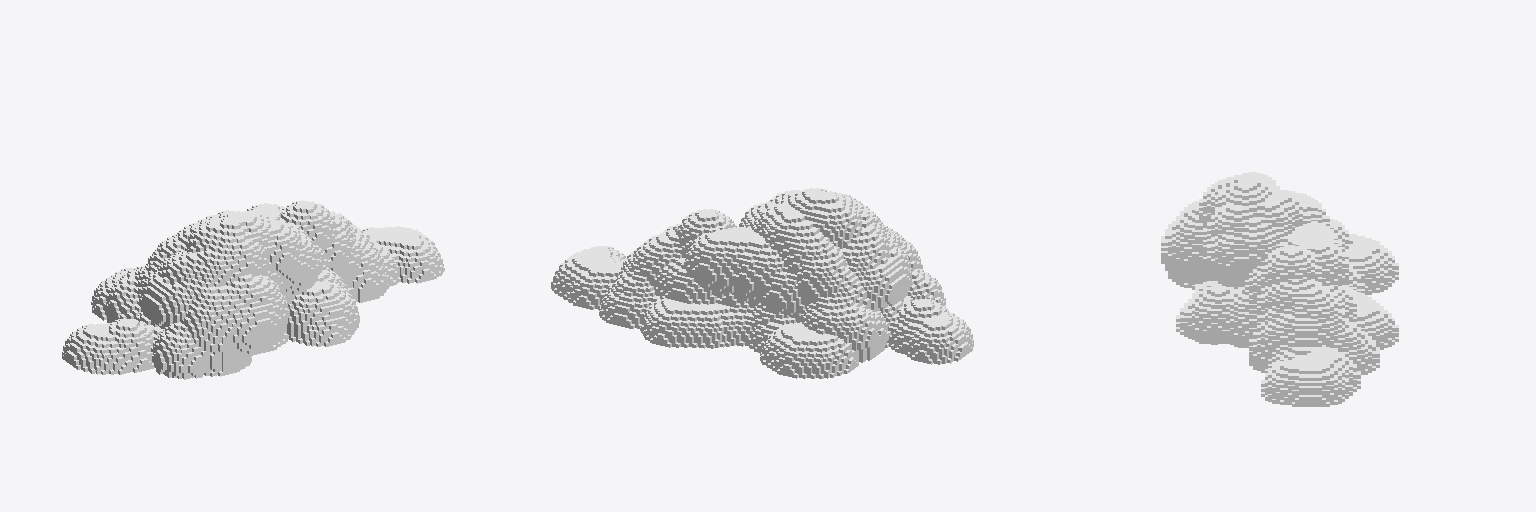
The model's file is forest1.2-36.obj.
3 views of the same model, side by side, from view 1: azimuth 30°, elevation 25°; view 2: azimuth 150°, elevation 25°; view 3: azimuth 270°, elevation 25° (orthographic).
Parts seen in each view (by area): view 1: object 1; view 2: object 1; view 3: object 1.
Part boxes in pixels (left/top/right/bottom): object 1: left=62, top=200, right=444, bottom=379; object 1: left=551, top=188, right=973, bottom=378; object 1: left=1161, top=172, right=1398, bottom=406.
Size of the model in its own units: 11.5 by 3.3 by 6.2.